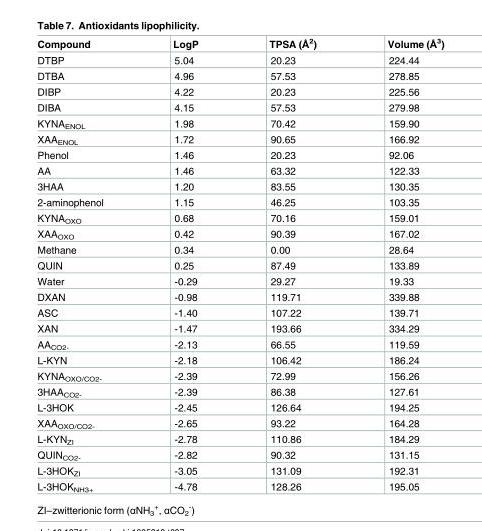table: (36, 37, 443, 492)
table column: (233, 37, 351, 492), (36, 37, 137, 492), (137, 37, 233, 492), (351, 37, 443, 492)
table column header: (36, 37, 443, 52)
table row: (36, 52, 443, 68), (36, 68, 443, 84), (36, 99, 443, 115), (36, 115, 443, 131), (36, 131, 443, 147), (36, 147, 443, 163), (36, 178, 443, 194), (36, 194, 443, 210), (36, 210, 443, 226), (36, 226, 443, 242), (36, 257, 443, 273), (36, 273, 443, 289), (36, 289, 443, 305), (36, 320, 443, 336), (36, 336, 443, 352), (36, 352, 443, 368), (36, 368, 443, 384), (36, 384, 443, 400), (36, 415, 443, 431), (36, 431, 443, 447), (36, 447, 443, 463), (36, 463, 443, 479), (36, 37, 443, 52), (36, 84, 443, 99), (36, 163, 443, 178), (36, 242, 443, 257), (36, 305, 443, 320), (36, 400, 443, 415), (36, 479, 443, 492)
